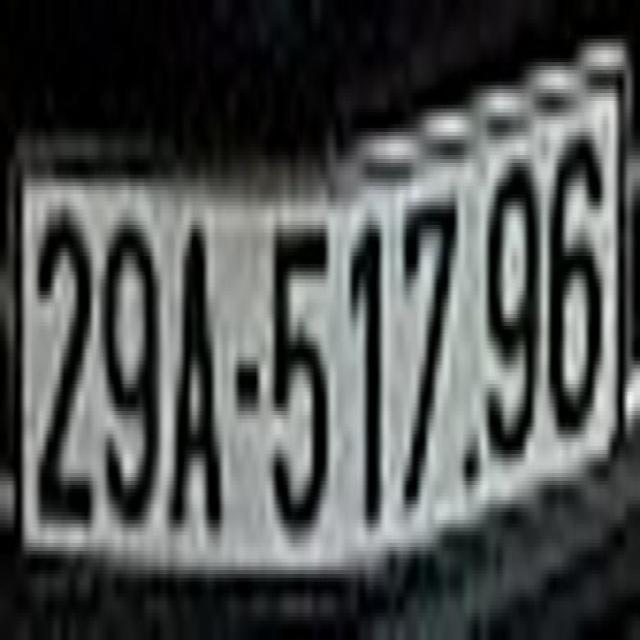1: (348, 202, 385, 531)
2: (34, 200, 94, 526)
5: (270, 196, 332, 545)
6: (547, 116, 606, 442)
7: (399, 184, 458, 514)
9: (102, 198, 161, 531), (484, 143, 538, 470)
A: (168, 208, 226, 537)
